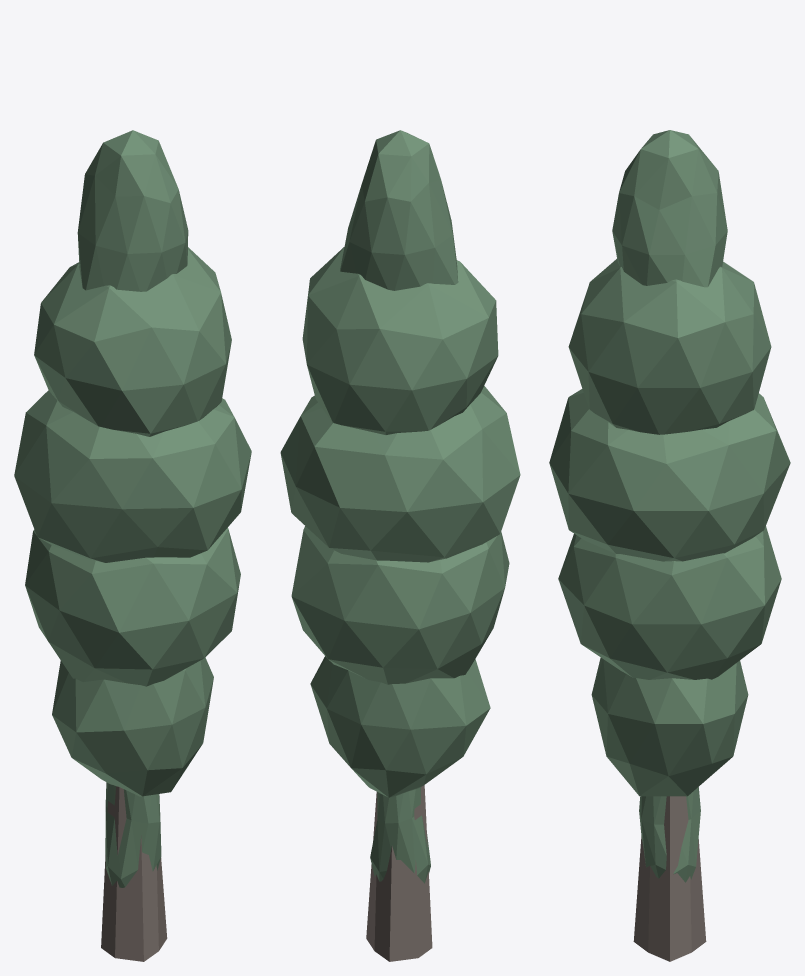
Rendered from tree_cypress.glb.
3 renders of one model, left to right at view 1: azimuth 30°, elevation 25°; view 2: azimuth 150°, elevation 25°; view 3: azimuth 270°, elevation 25°, orthographic.
Parts seen in each view (by area): view 1: tree_cypress; view 2: tree_cypress; view 3: tree_cypress.
Boxes of the visible parts, x1,y1,x2,y2 form: tree_cypress: (14,130,251,961); tree_cypress: (280,130,520,961); tree_cypress: (549,130,790,961).
Bounding box in the file's own units: 1.88 × 8.3 × 1.95.
